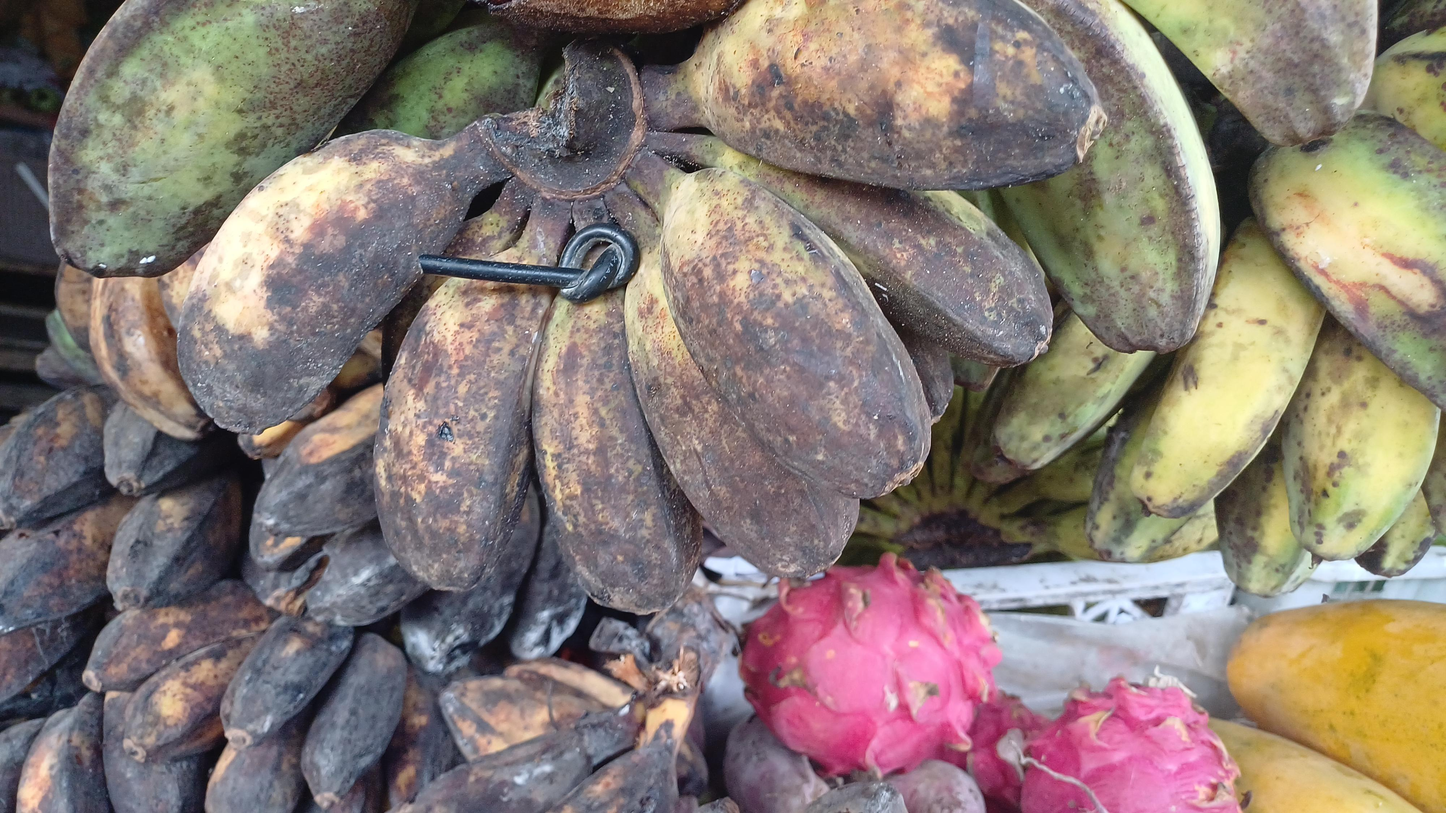overripe: (178, 0, 1107, 617), (253, 384, 589, 674), (83, 580, 455, 813), (0, 387, 243, 635), (392, 726, 681, 813), (0, 691, 206, 813)
underripe: (995, 27, 1446, 595), (47, 0, 551, 277), (1001, 0, 1378, 351)
